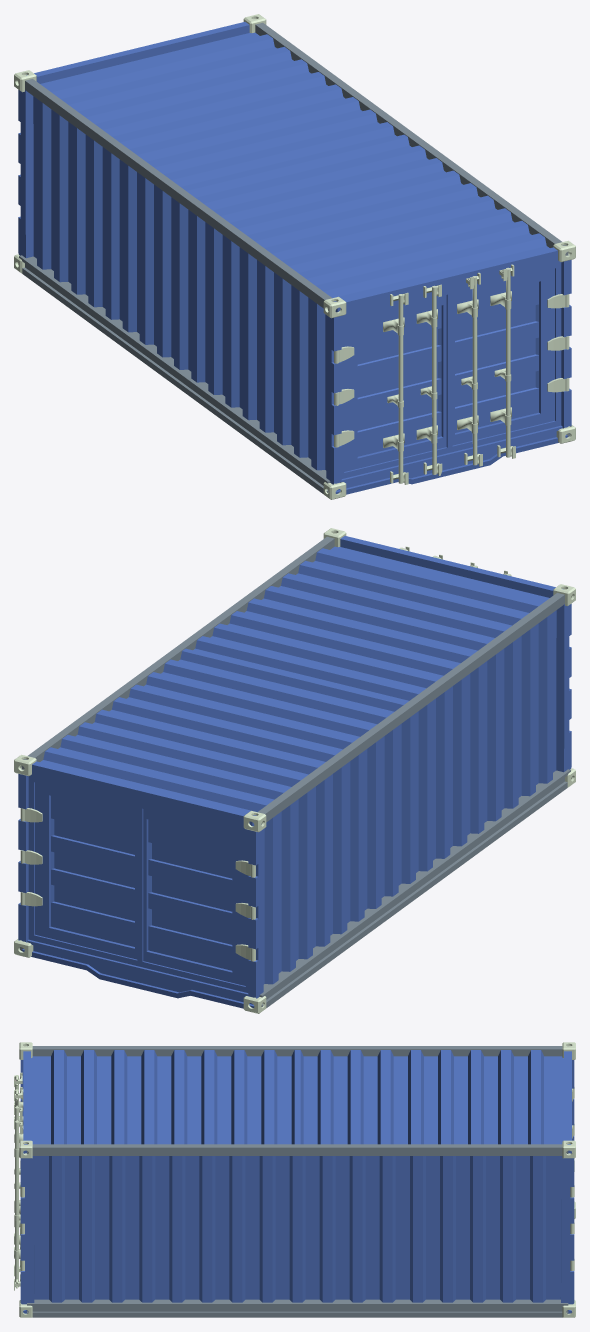
The model's file is shipping_containerr.fbx.
The picture shows the model from 3 angles, top to bottom: view 1: azimuth 30°, elevation 25°; view 2: azimuth 150°, elevation 25°; view 3: azimuth 270°, elevation 25°; orthographic projection. The views are drawn at different scales.
Parts seen in each view (by area): view 1: FRAME.005; view 2: FRAME.005; view 3: FRAME.005.
Part boxes in pixels (x1,y1,x2,y2): FRAME.005: [14, 14, 575, 499]; FRAME.005: [14, 528, 575, 1013]; FRAME.005: [14, 1042, 575, 1317].
Bounding box in the file's own units: 277 × 623 × 216.
